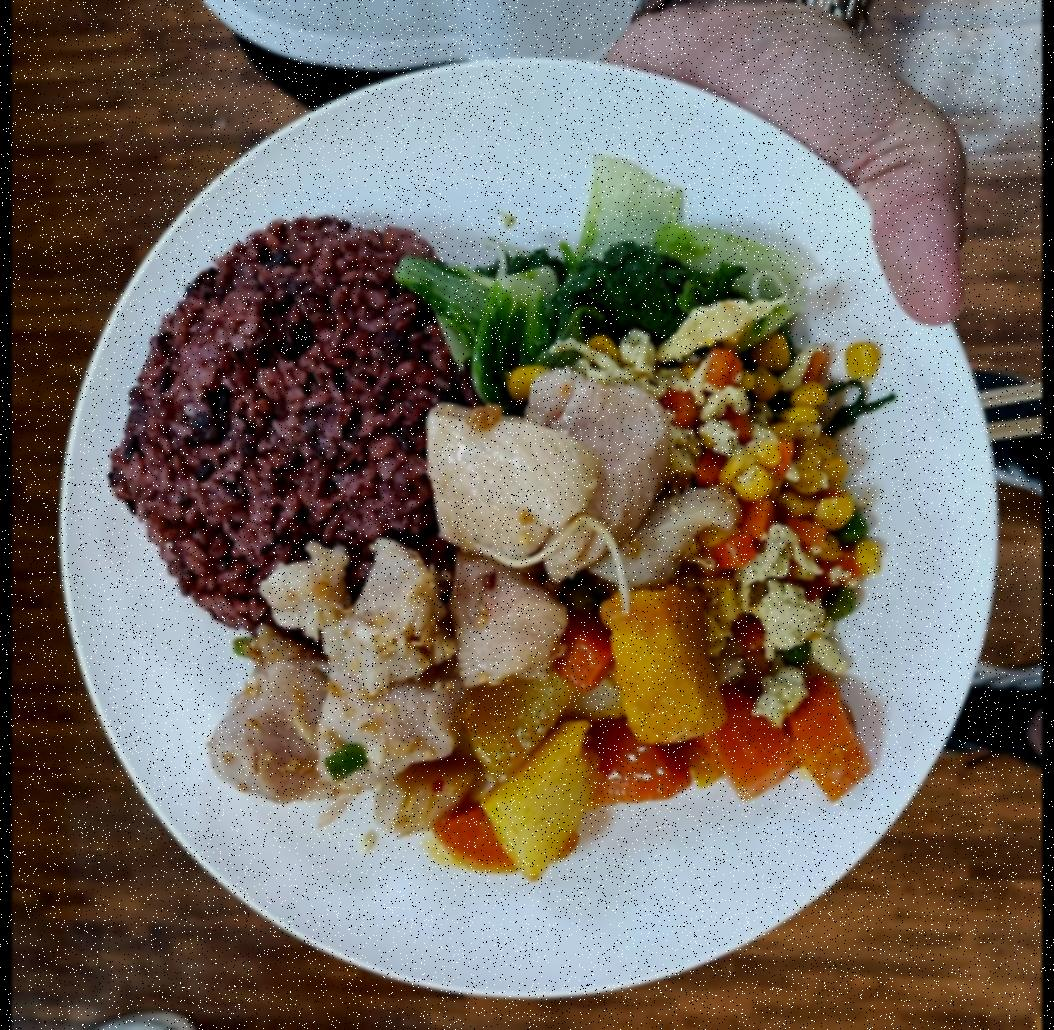plate: (50, 47, 1005, 1009)
purple rice: (110, 219, 456, 637)
scallion chicken: (205, 367, 724, 830)
side dish: (388, 600, 872, 872), (622, 322, 888, 704), (393, 153, 794, 375)
